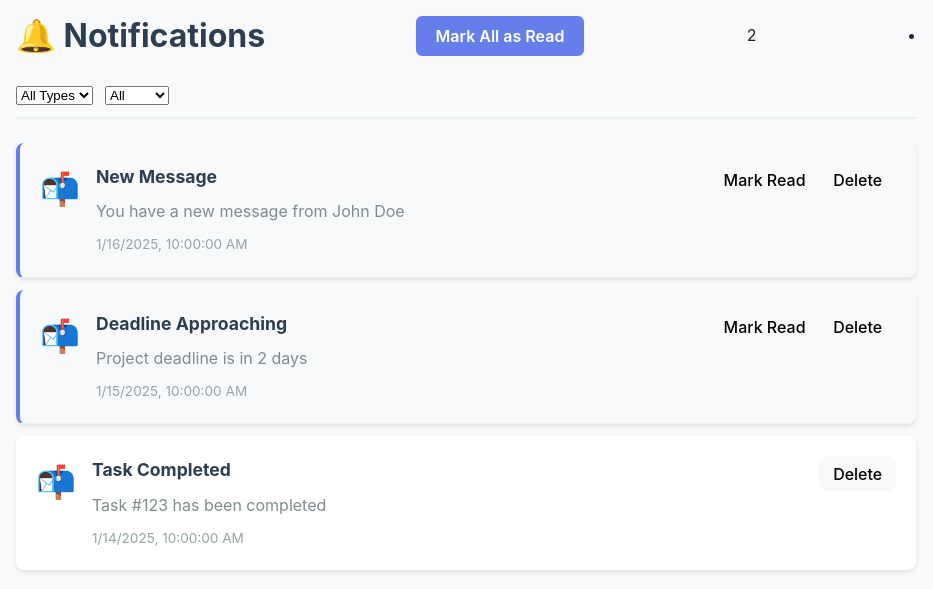
Scenario: NotificationCenter Component › Actions › should delete notification
Click the button with test id "delete-notification-1" at [858, 180], box [819,163,896,198]
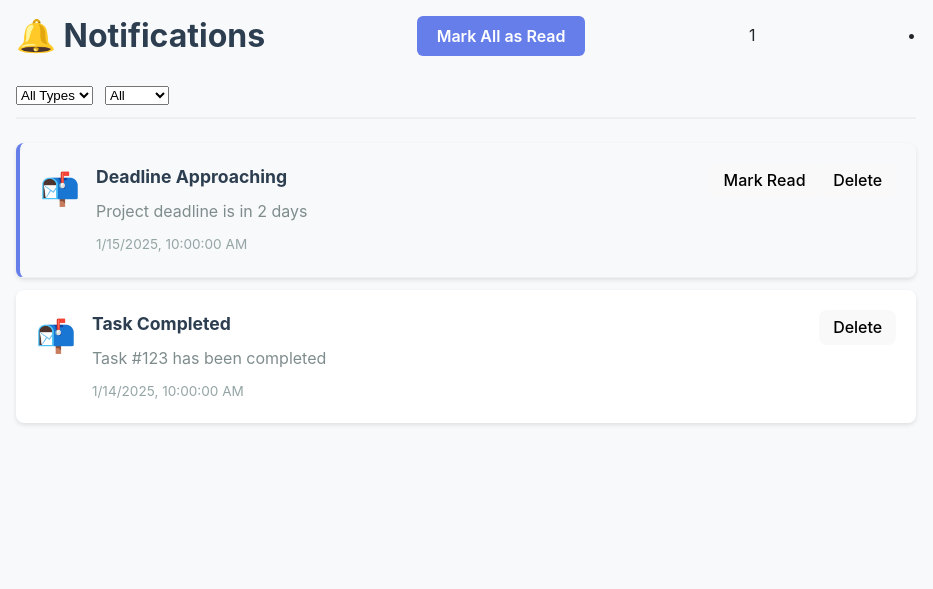
Result: the heading "New Message" is gone
